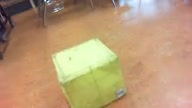cube: (51, 37, 128, 108)
